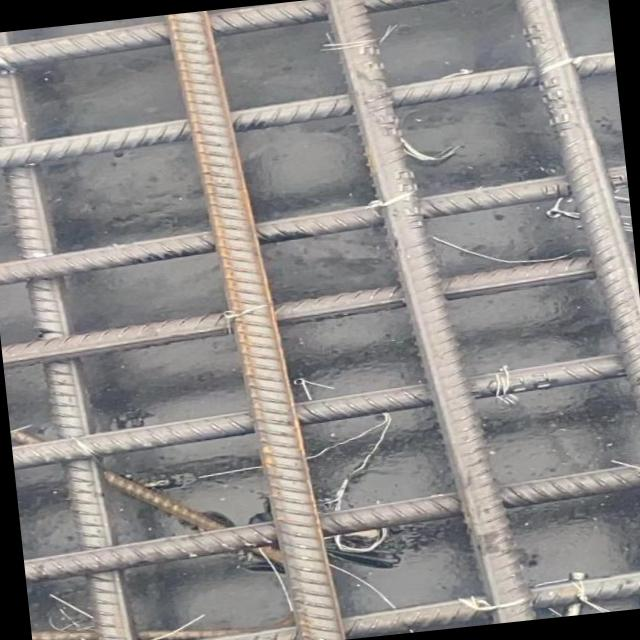ribbed bar: (320, 0, 541, 634), (164, 3, 348, 640), (0, 24, 138, 640), (0, 163, 630, 287), (20, 461, 640, 585), (9, 352, 632, 472), (0, 50, 618, 170), (0, 251, 601, 370), (506, 0, 640, 464), (0, 0, 608, 78), (31, 565, 640, 640)
